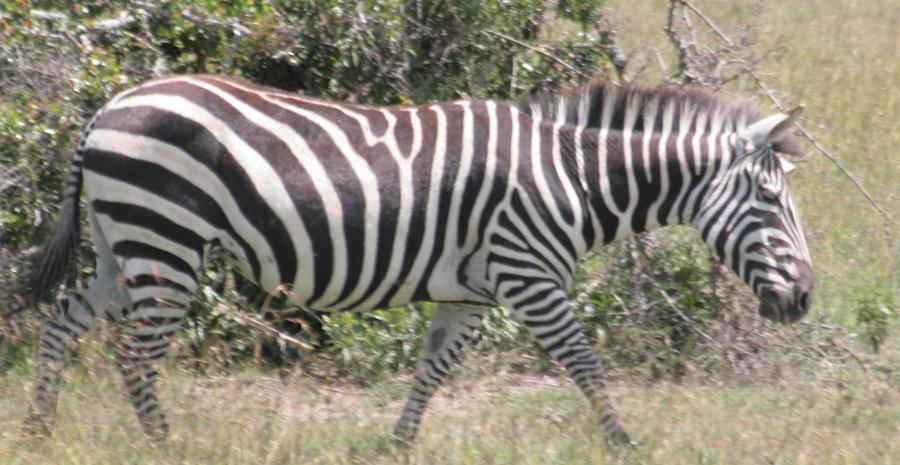zebra_plains: (79, 81, 571, 284)
